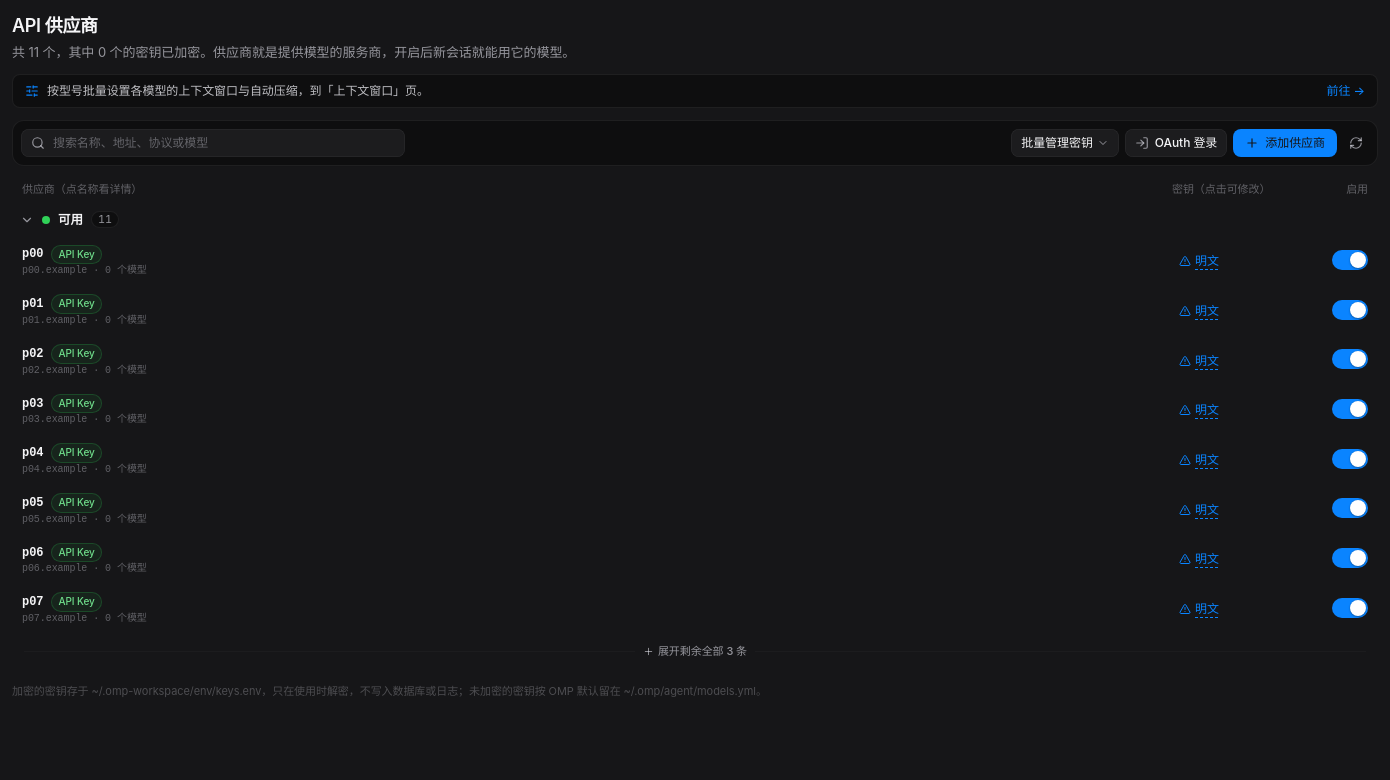
Test: status groups › shows all remaining rows with the exact count and can collapse
The width and height of the screenshot is (1390, 780).
Expected: the text "供应商（点名称看详情）" is shown, [22,182,142,196]
Click the button "展开剩余全部 3 条".
click(695, 652)  # box [635,640,755,663]
(page scrolled)
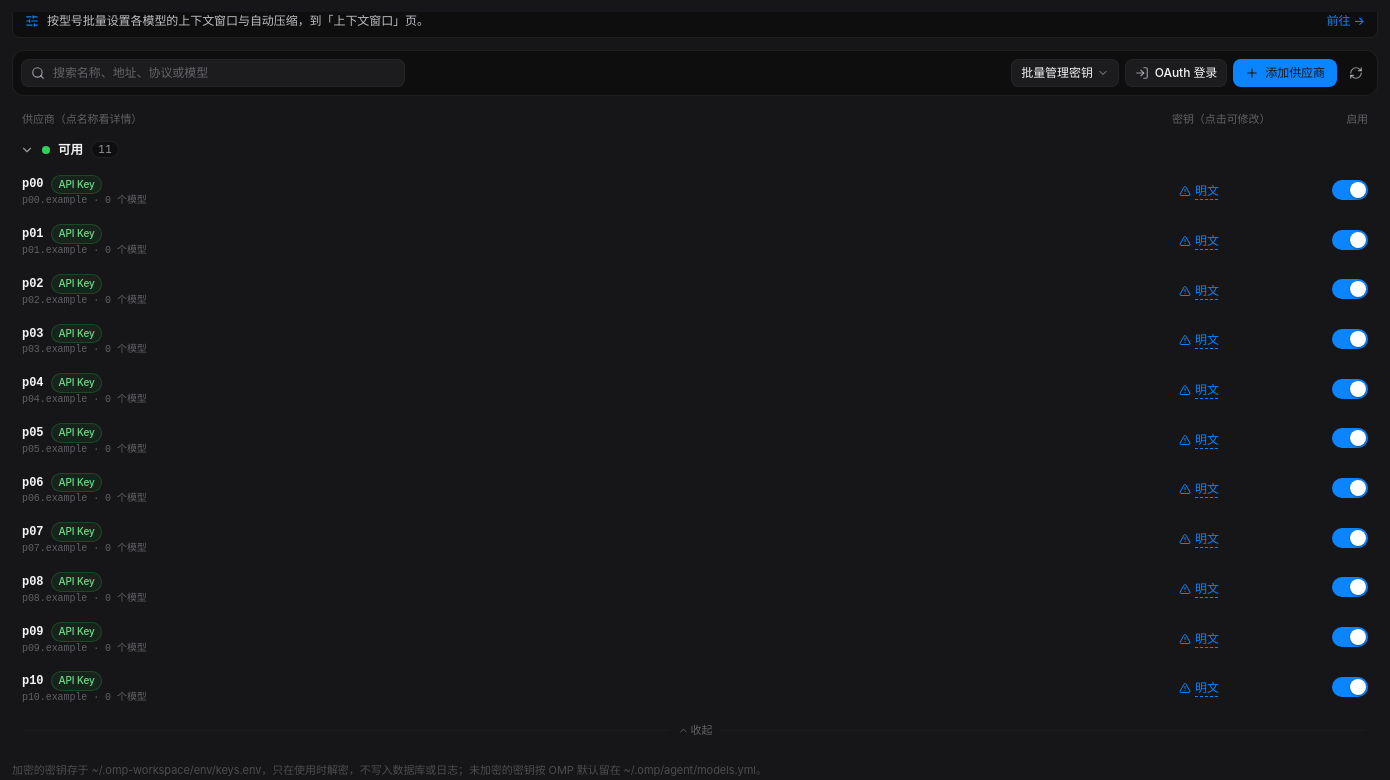
Result: the text "p10" is shown at [22,673,43,689]
Click the button "收起".
click(695, 731)  # box [670,719,720,742]
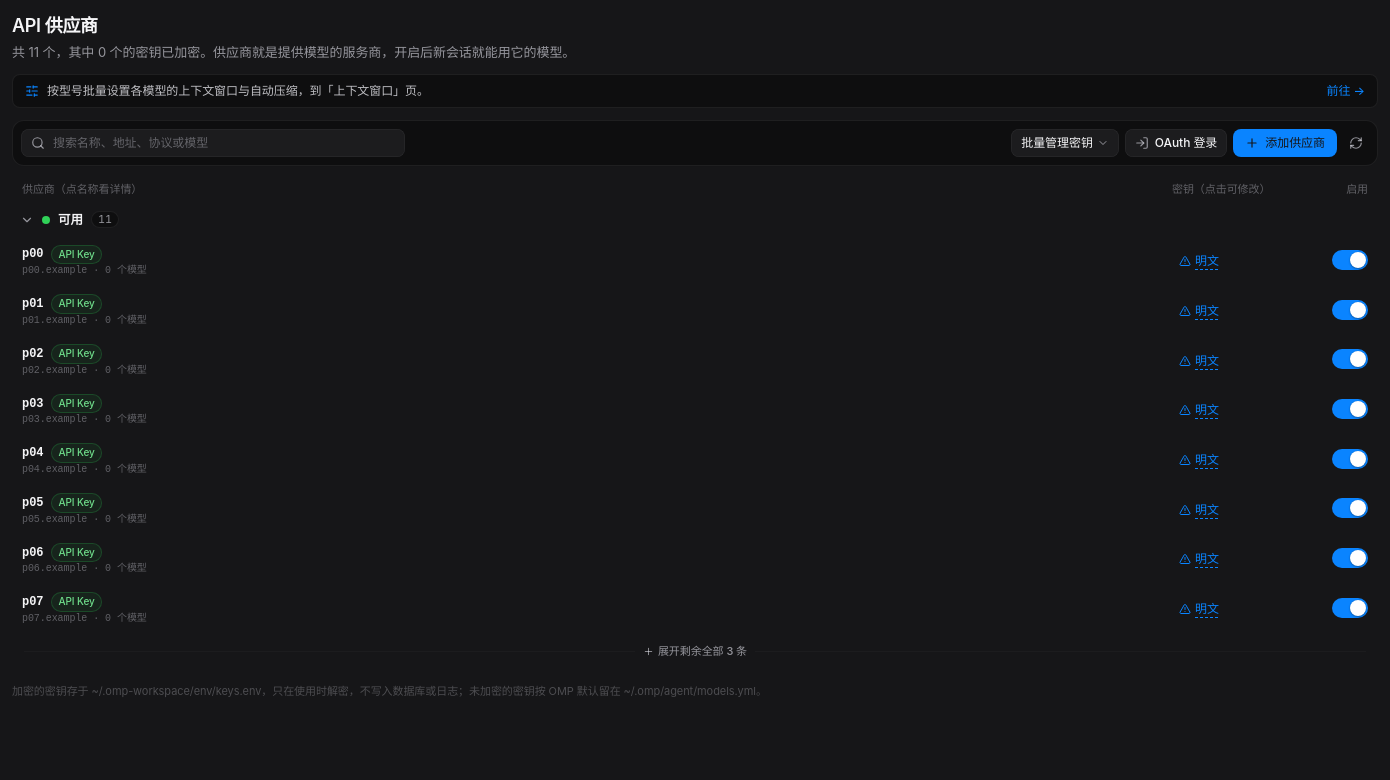
Result: the button "p08" is gone
